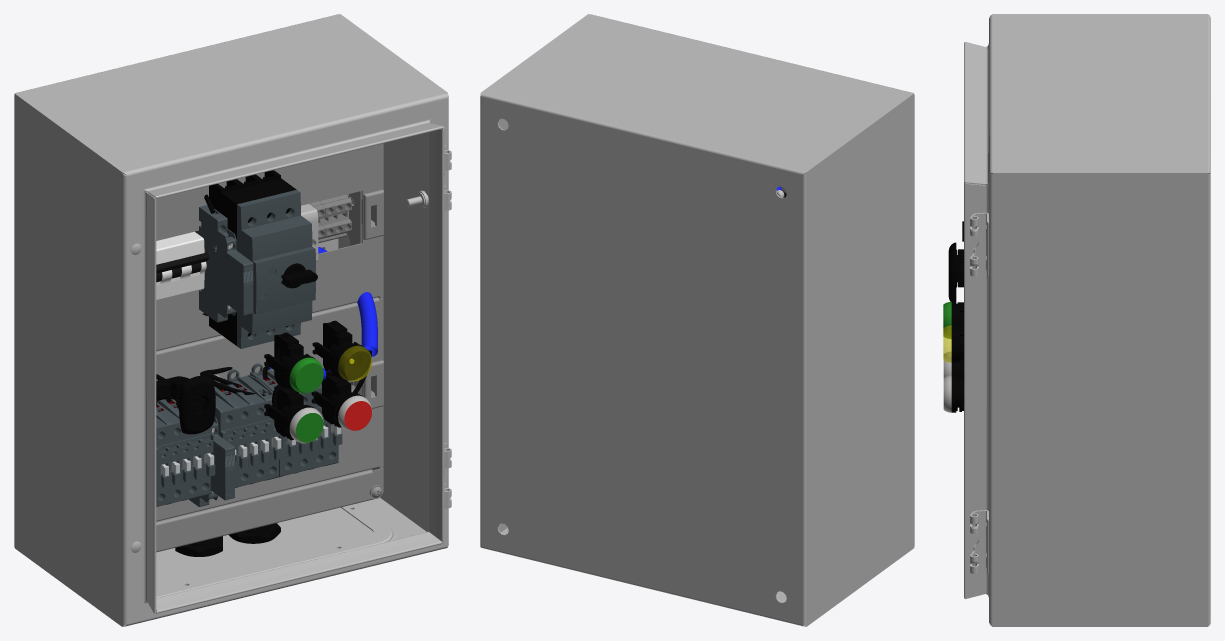
Rendered from TableroElectricoOpen.gltf.
3 renders of one model, left to right at view 1: azimuth 30°, elevation 25°; view 2: azimuth 150°, elevation 25°; view 3: azimuth 270°, elevation 25°, orthographic.
Visible parts, largest first — view 1: Solid1 (×27), Srf82; view 2: Solid1; view 3: Solid1 (×5).
Boxes of the visible parts, x1,y1,x2,y2 form: Solid1 (×27): (14, 14, 451, 626); Srf82: (318, 247, 377, 356); Solid1: (480, 14, 914, 626); Solid1 (×5): (943, 14, 1210, 626).
Bounding box in the file's own units: 0.3 × 0.4362 × 0.2133.
